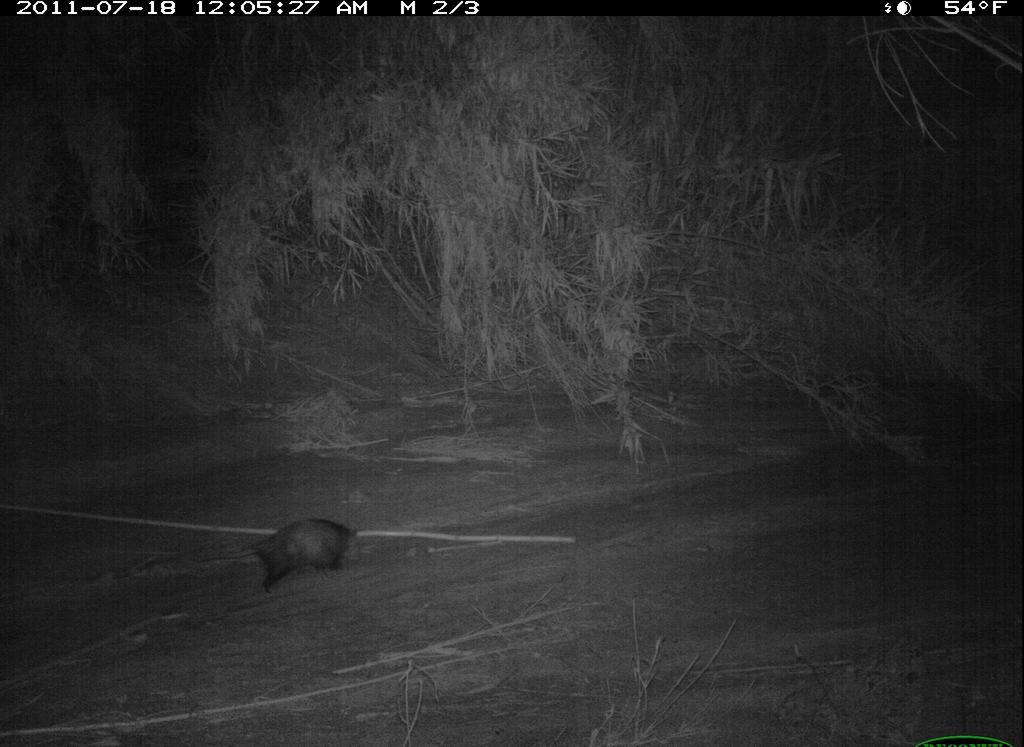opossum: (168, 513, 383, 601)
